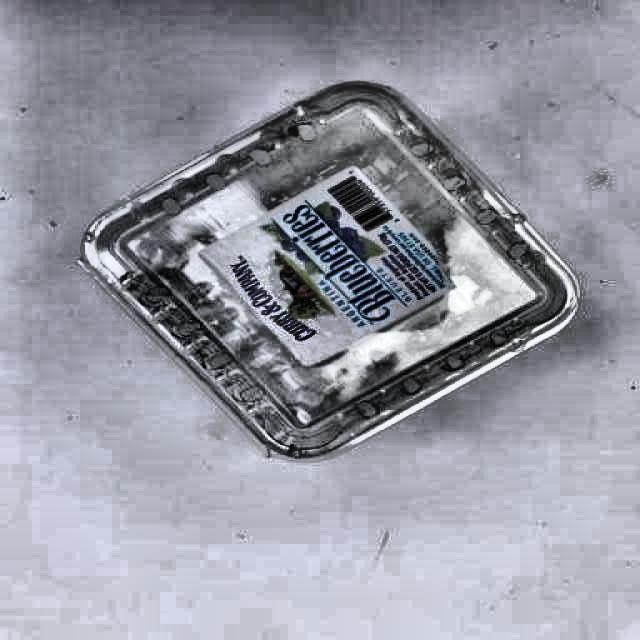plastic: (82, 84, 579, 457)
